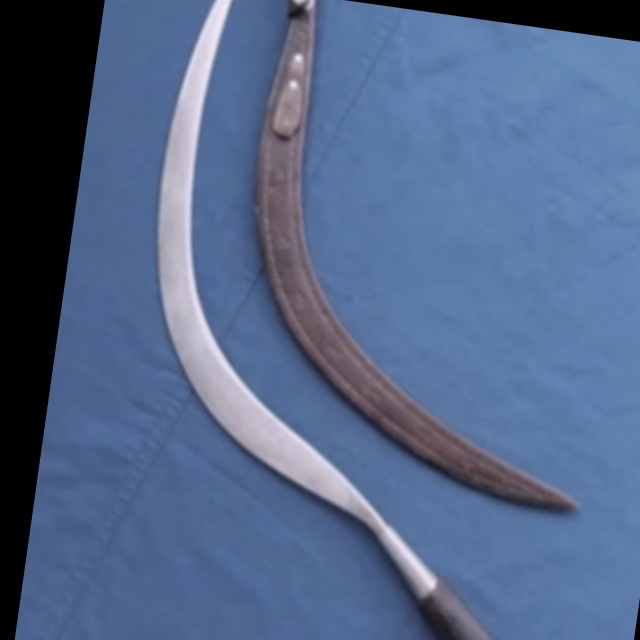Sharp-Object: (82, 0, 619, 640)
